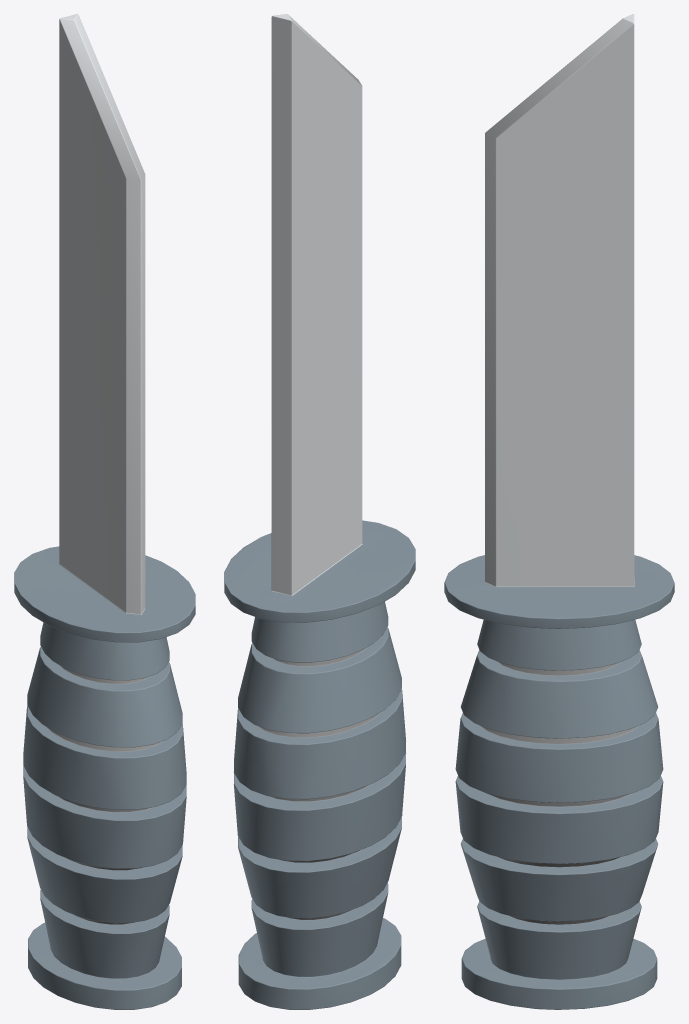
File: knife_sharp.glb
3 renders of one model, left to right at view 1: azimuth 30°, elevation 25°; view 2: azimuth 150°, elevation 25°; view 3: azimuth 270°, elevation 25°, orthographic. The views are drawn at different scales.
Visible parts, largest first — view 1: knife_sharp; view 2: knife_sharp; view 3: knife_sharp.
Boxes of the visible parts, <box> form: knife_sharp: <box>14,14,195,1009</box>; knife_sharp: <box>224,14,415,1009</box>; knife_sharp: <box>444,14,674,1009</box>.
Size of the model in its own units: 0.0574 by 0.3522 by 0.0766.
